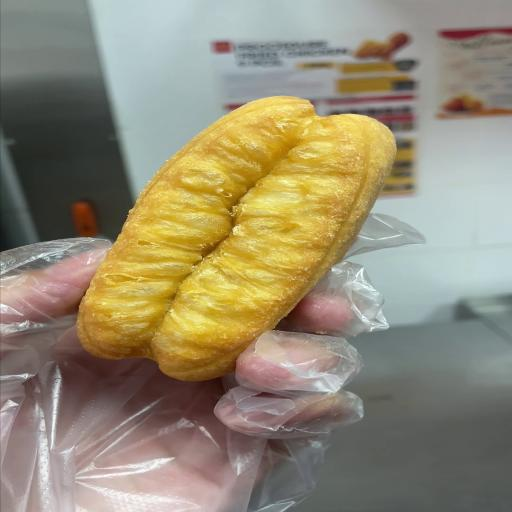brand_golden_good: (77, 97, 394, 380)
